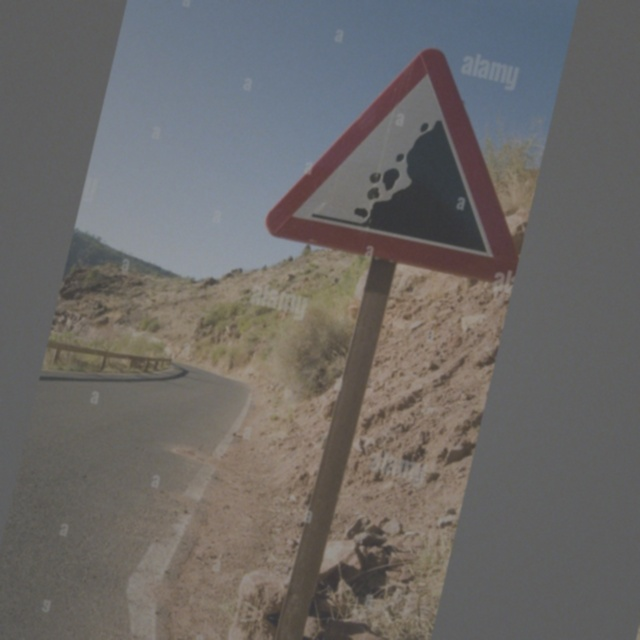Falling_Rocks: (295, 32, 546, 275)
